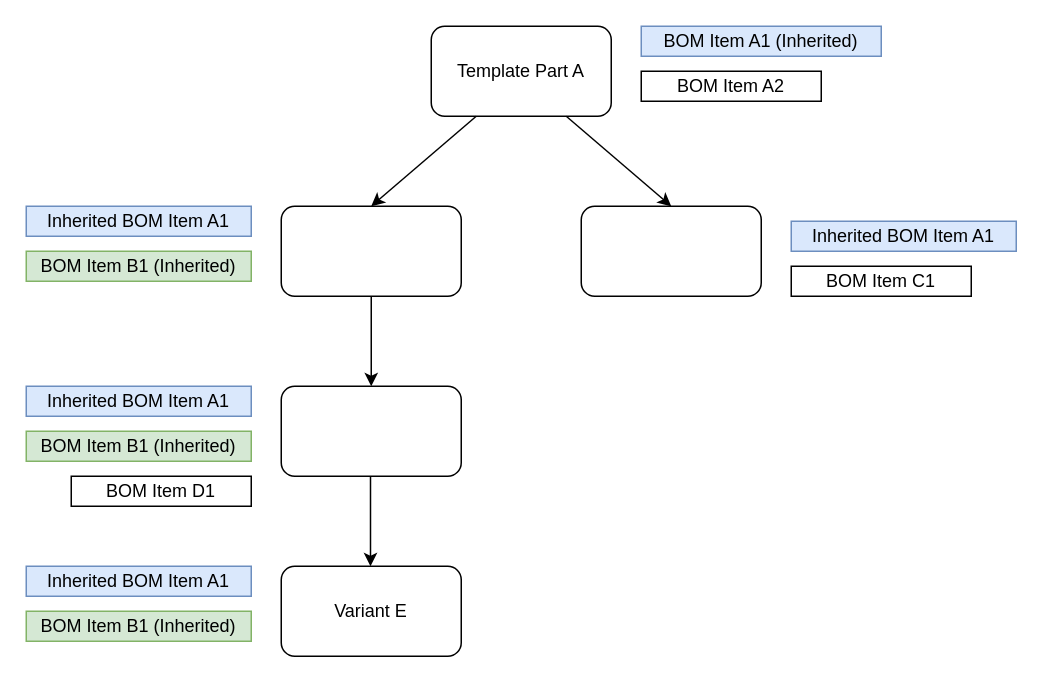
This 1043x683 diagram has some shape labels left out. Here are the shapes that lost their labels. From the top down, the centre of each, then its label:
At [370,250]: "Variant B".
At [670,250]: "Variant C".
At [370,430]: "Variant D".
